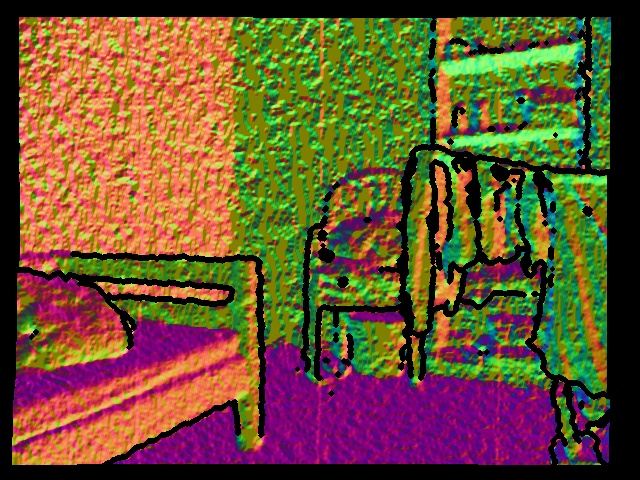station: (549, 379, 605, 468)
